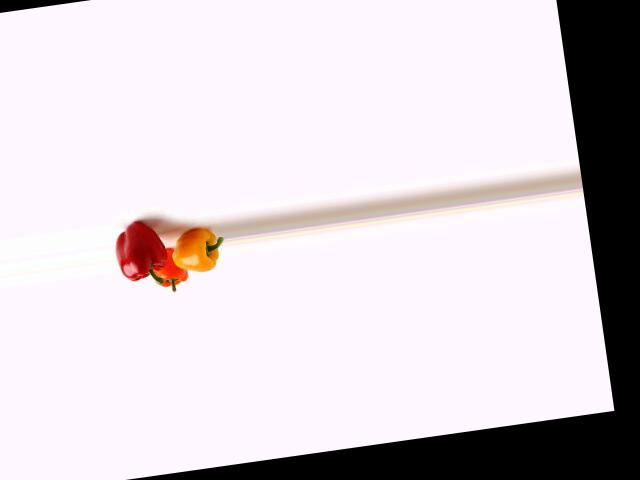bell_pepper: (110, 211, 174, 295)
